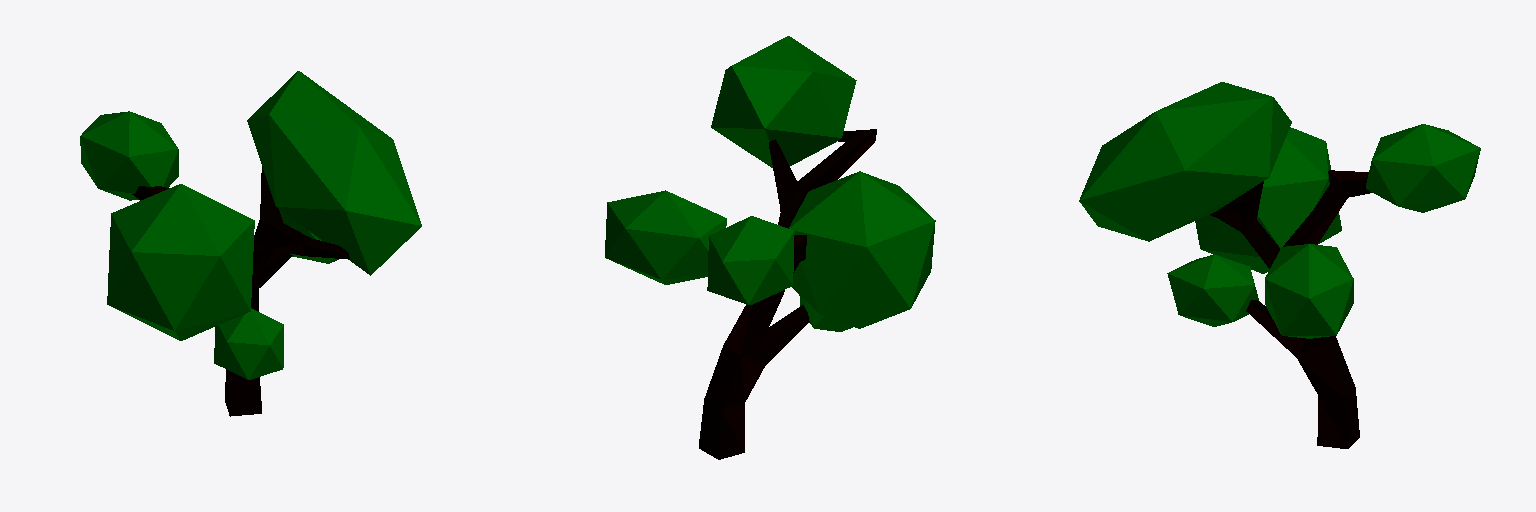
Rendered from tree.obj.
The picture shows the model from 3 angles: view 1: azimuth 30°, elevation 25°; view 2: azimuth 150°, elevation 25°; view 3: azimuth 270°, elevation 25°; orthographic projection.
Parts seen in each view (by area): view 1: Cube_Cube.001; view 2: Cube_Cube.001; view 3: Cube_Cube.001.
Part boxes in pixels (x1,y1,x2,y2): Cube_Cube.001: (80,71,421,416); Cube_Cube.001: (605,36,935,459); Cube_Cube.001: (1079,82,1480,448).
Bounding box in the file's own units: 5.1 × 5.95 × 6.08.